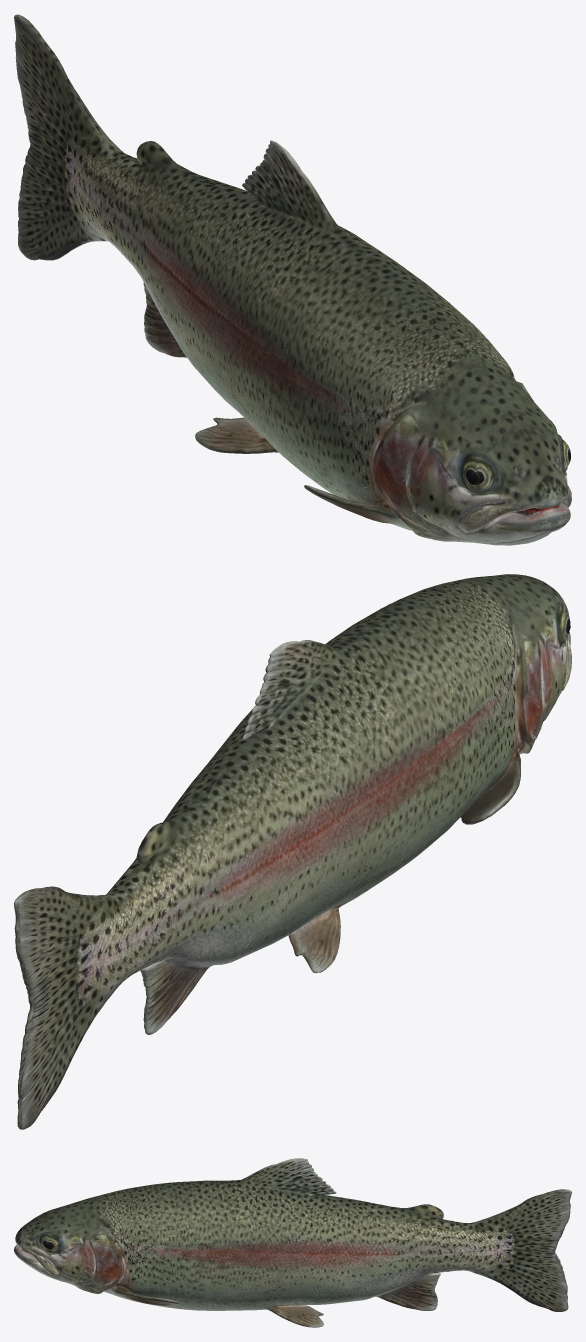
The model's file is pstrag_teczowy.glb.
The picture shows the model from 3 angles, top to bottom: view 1: azimuth 30°, elevation 25°; view 2: azimuth 150°, elevation 25°; view 3: azimuth 270°, elevation 25°; orthographic projection. The views are drawn at different scales.
Parts seen in each view (by area): view 1: Mesh_0; view 2: Mesh_0; view 3: Mesh_0.
Part boxes in pixels (x1,y1,x2,y2): Mesh_0: (14, 14, 571, 545); Mesh_0: (14, 574, 571, 1129); Mesh_0: (14, 1158, 571, 1327).
Size of the model in its own units: 0.3997 by 0.5794 by 1.9.
1 material, 1 textured.
